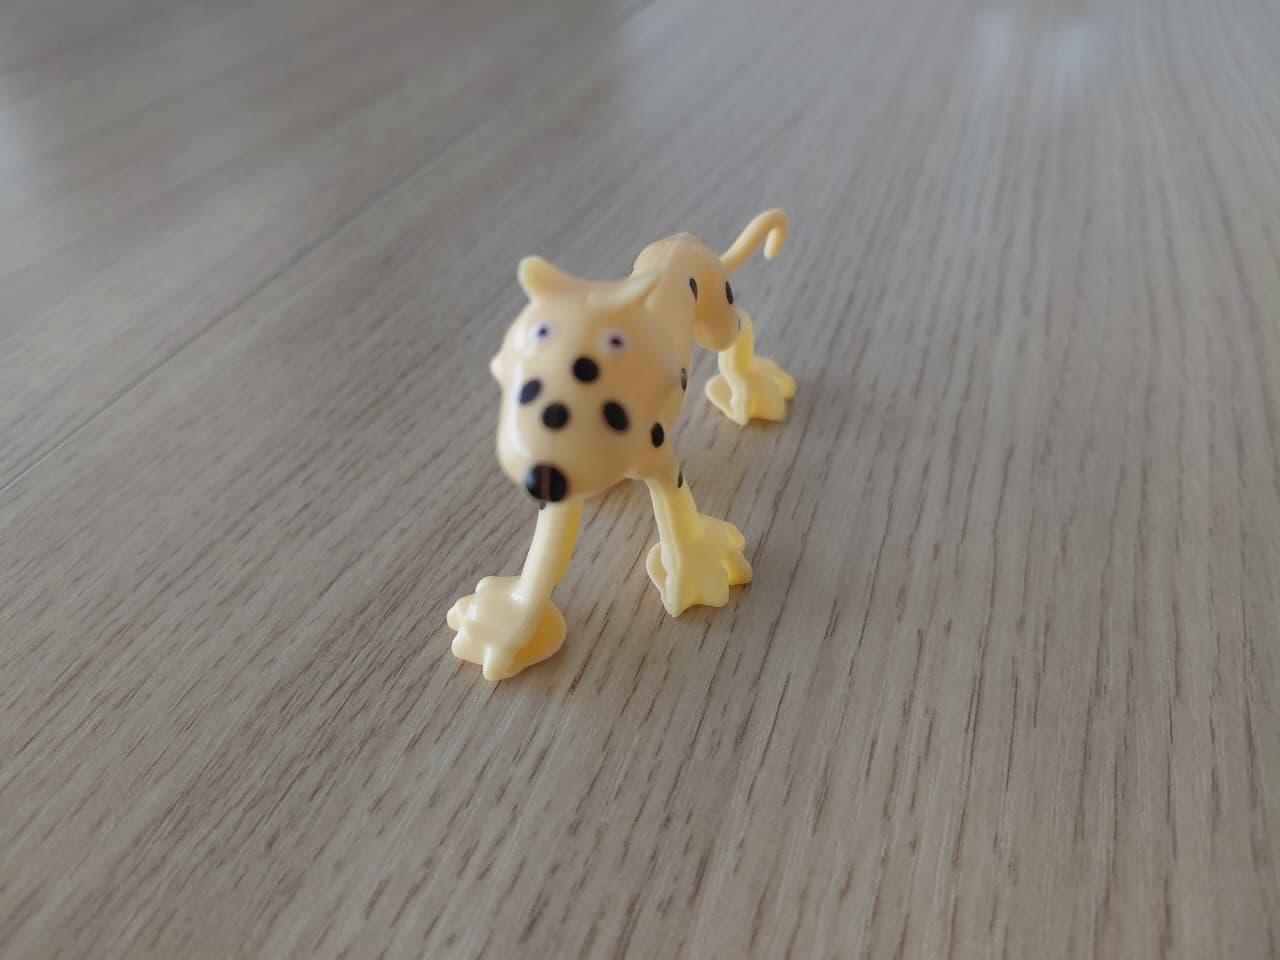cheetah: (450, 197, 880, 725)
